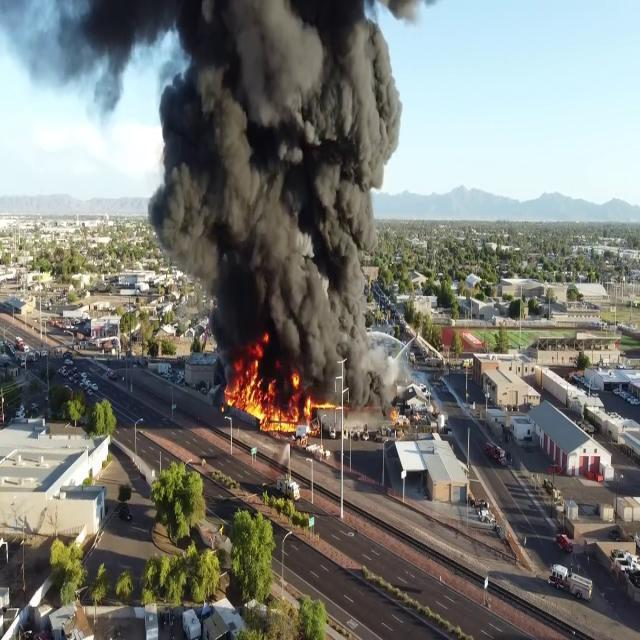Fire: (226, 346, 312, 434)
Smoke: (126, 0, 414, 366)
